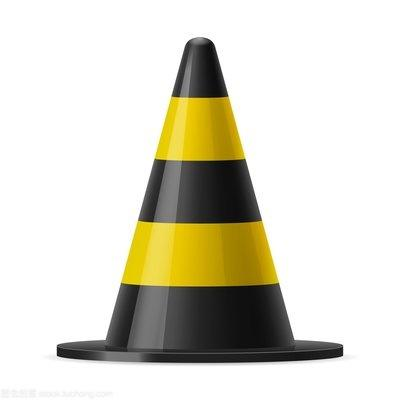cone_barrel: (87, 34, 302, 353)
